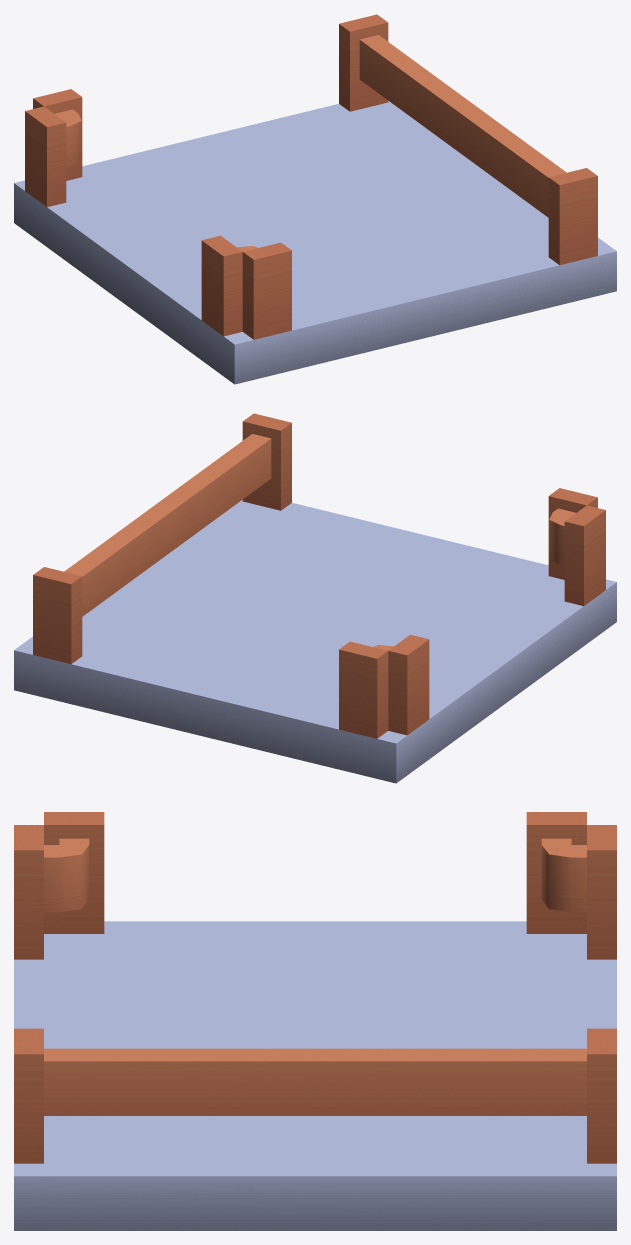
The model's file is path-split.glb.
The picture shows the model from 3 angles, top to bottom: view 1: azimuth 30°, elevation 25°; view 2: azimuth 150°, elevation 25°; view 3: azimuth 270°, elevation 25°; orthographic projection. The views are drawn at different scales.
Visible parts, largest first — view 1: path-split; view 2: path-split; view 3: path-split.
Part boxes in pixels (x1=…): path-split: x1=14, y1=14, x2=616, y2=384; path-split: x1=14, y1=413, x2=616, y2=783; path-split: x1=14, y1=812, x2=616, y2=1230.
Size of the model in its own units: 1 by 0.3 by 1.
Materials: 1 (1 with a texture image).
